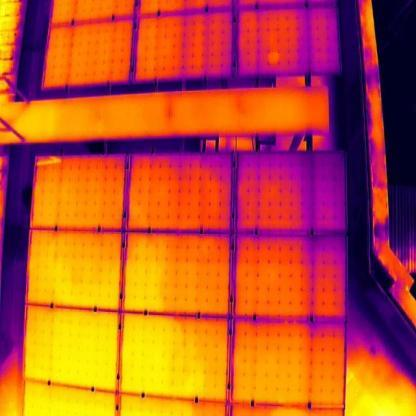anomaly: (35, 155, 64, 168)
